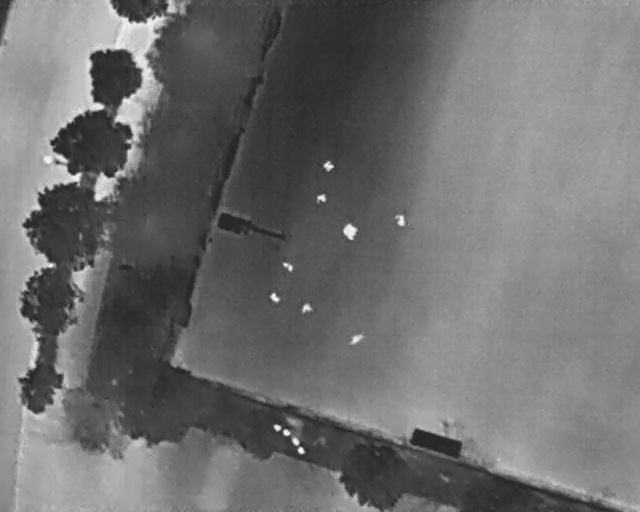Person: (278, 257, 297, 275), (346, 330, 366, 347), (342, 221, 357, 242), (266, 289, 284, 305), (300, 301, 314, 315), (323, 161, 335, 173), (395, 214, 405, 228), (316, 193, 327, 205)
